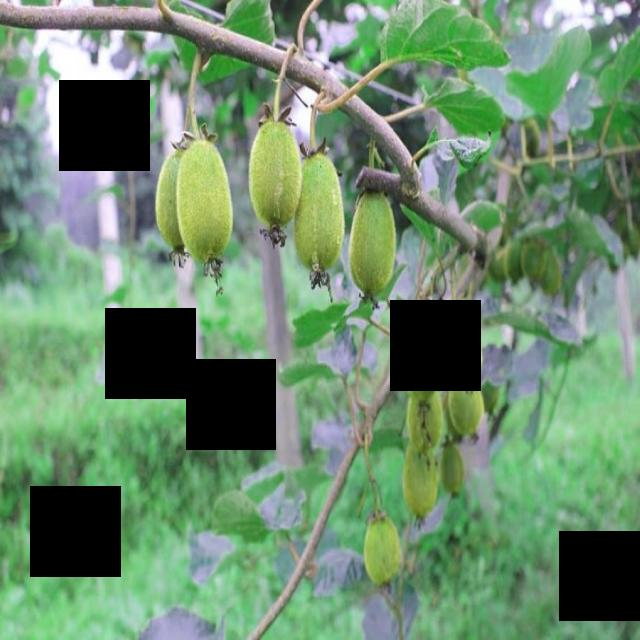kiwi: (176, 125, 234, 271), (290, 151, 350, 289), (245, 123, 306, 251), (346, 186, 401, 306), (153, 141, 190, 267), (363, 510, 405, 594), (415, 299, 455, 386), (403, 440, 443, 524), (449, 306, 485, 394), (406, 385, 444, 463), (453, 374, 489, 444), (441, 429, 471, 501), (520, 230, 550, 291), (503, 239, 527, 289), (543, 248, 561, 299)
